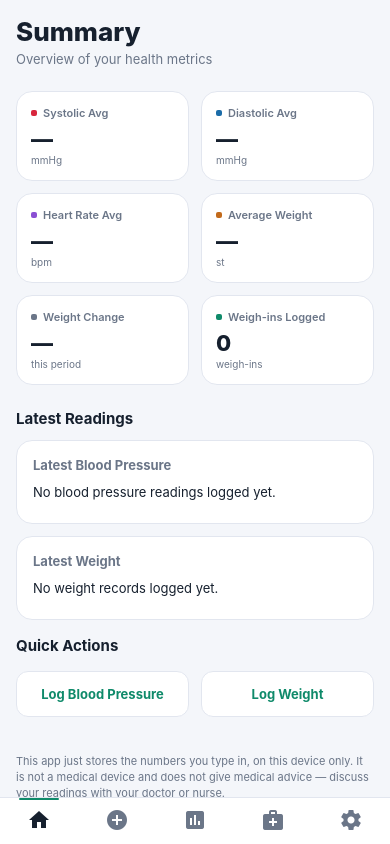
Test: App › shows a saved reading as the latest, with its band
The image size is (390, 844).
Expected: the text "Summary" is shown, [16, 16, 141, 47]
Click the tab named "Log" at (117, 820), box [105, 808, 129, 832]
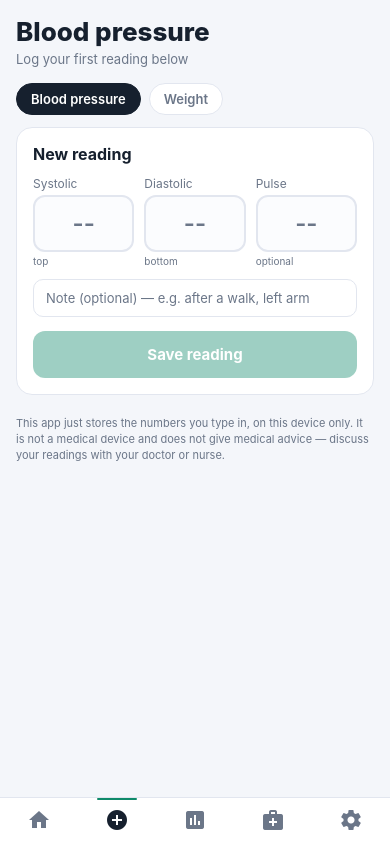
Expected: the text "New reading" is shown, [33, 144, 132, 164]
Type "128" into the field named "Systolic top" at (84, 224), box [33, 195, 134, 252]
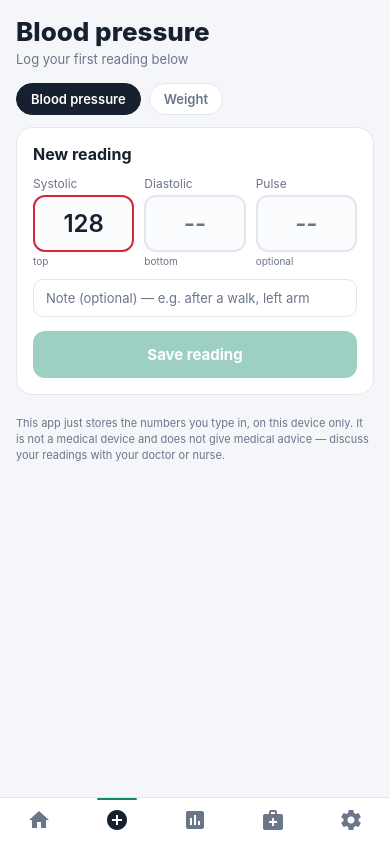
Type "82" into the field named "Diastolic bottom" at (195, 224), box [144, 195, 246, 252]
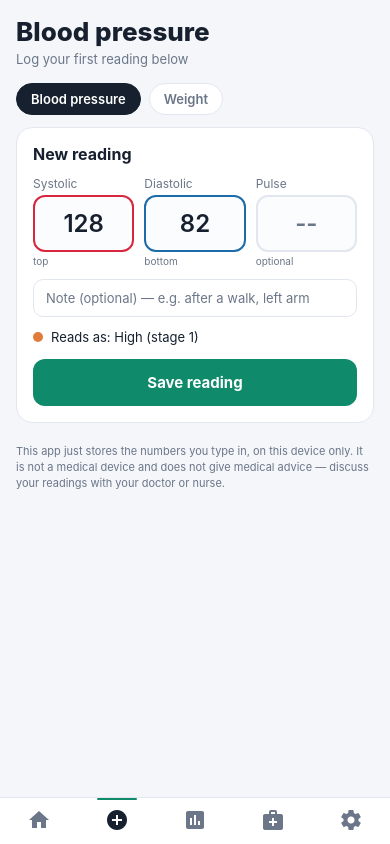
Type "66" into the field named "Pulse optional" at (306, 224), box [256, 195, 357, 252]
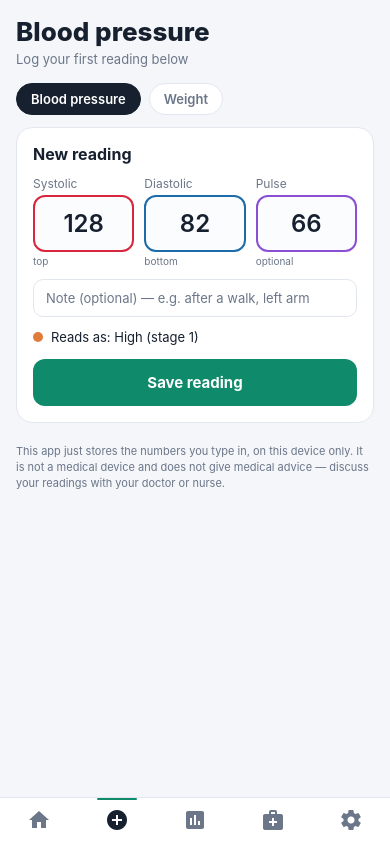
Click the button "Save reading" at (195, 382), box [33, 359, 357, 406]
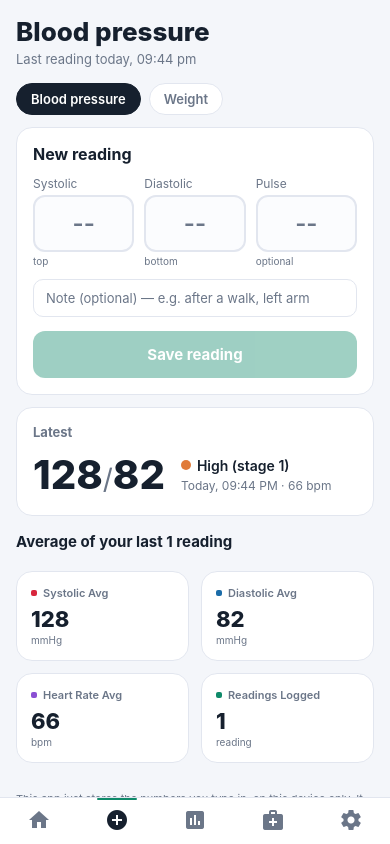
Expected: the text "High (stage 1)" is shown, [197, 456, 290, 474]
Expected: the text "Latest" is shown, [33, 424, 72, 440]
Expected: the text "128/82" is shown, [33, 450, 165, 499]
